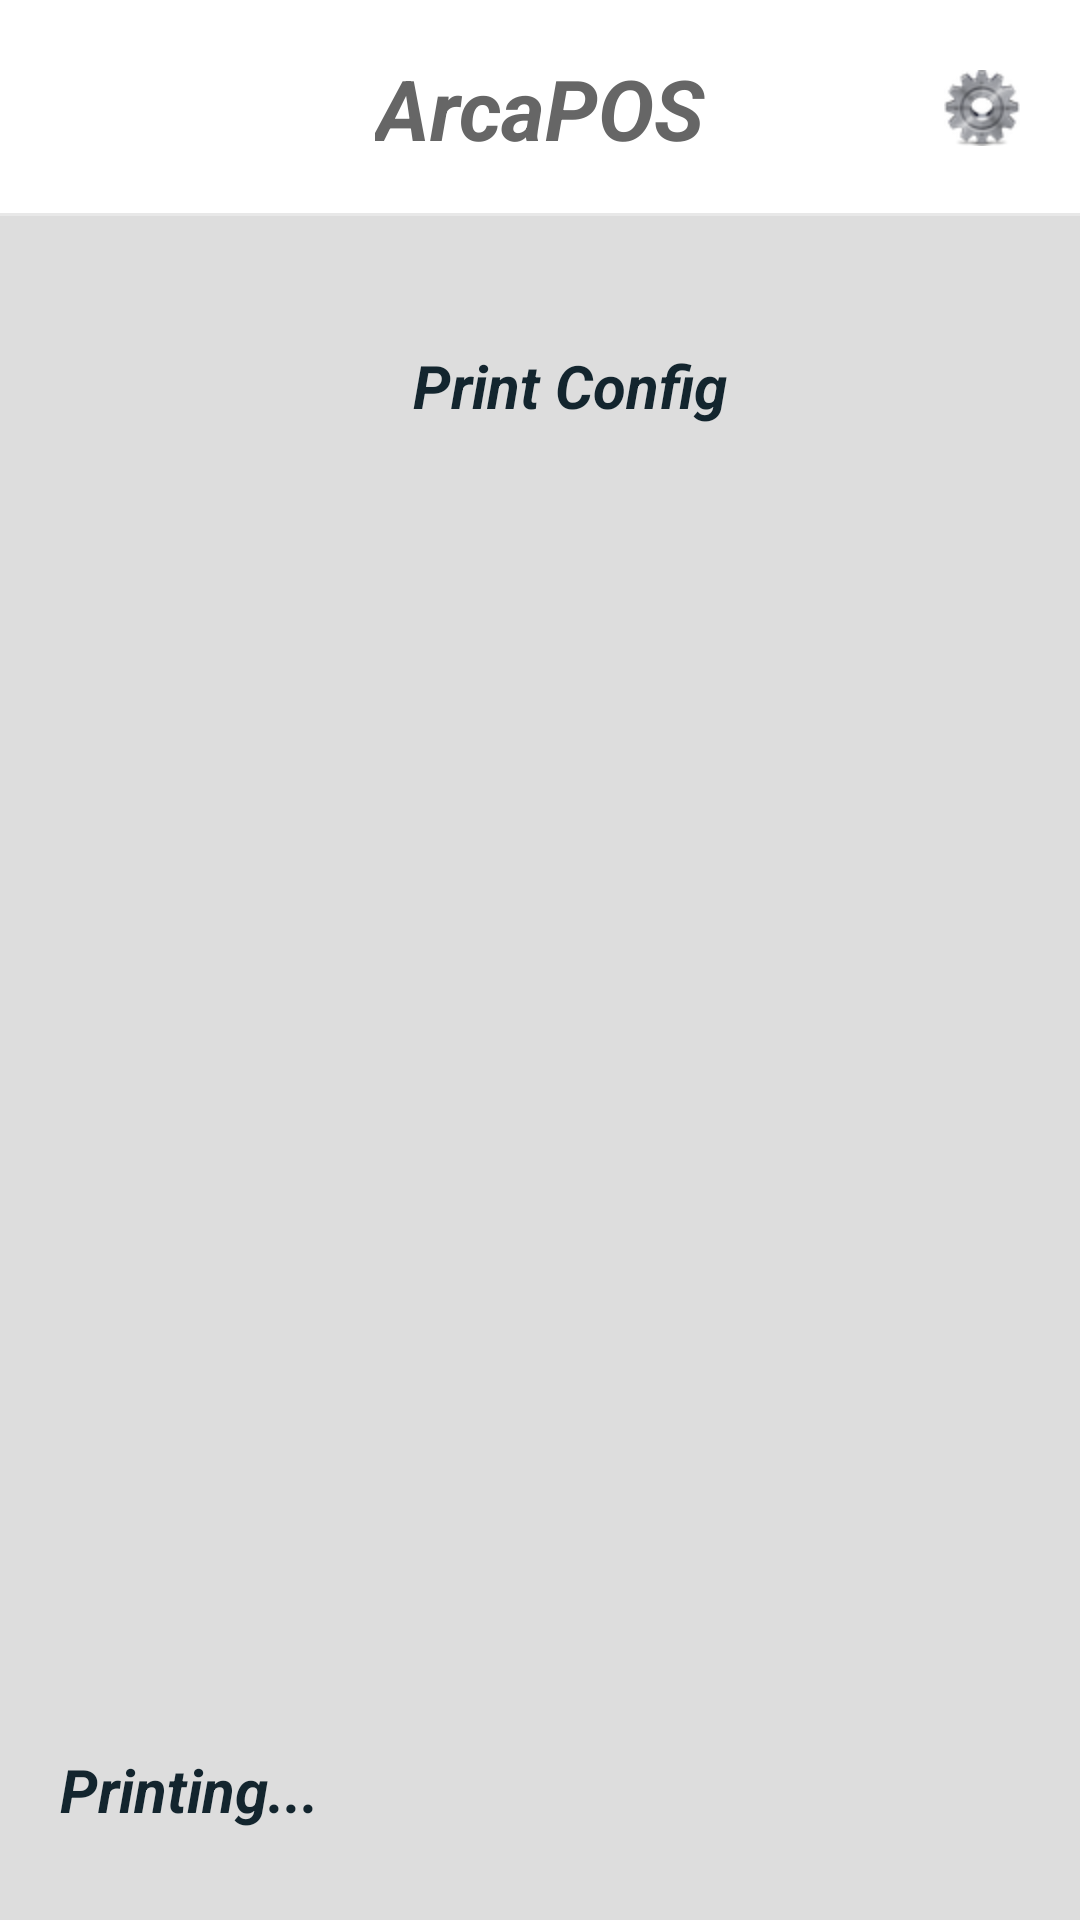

Point at icon controls on the screen. Image size 1080px x 1920px, points as point (x, y).
settings: point (982, 108)
